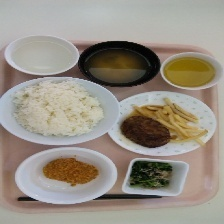rice: (12, 80, 106, 140)
